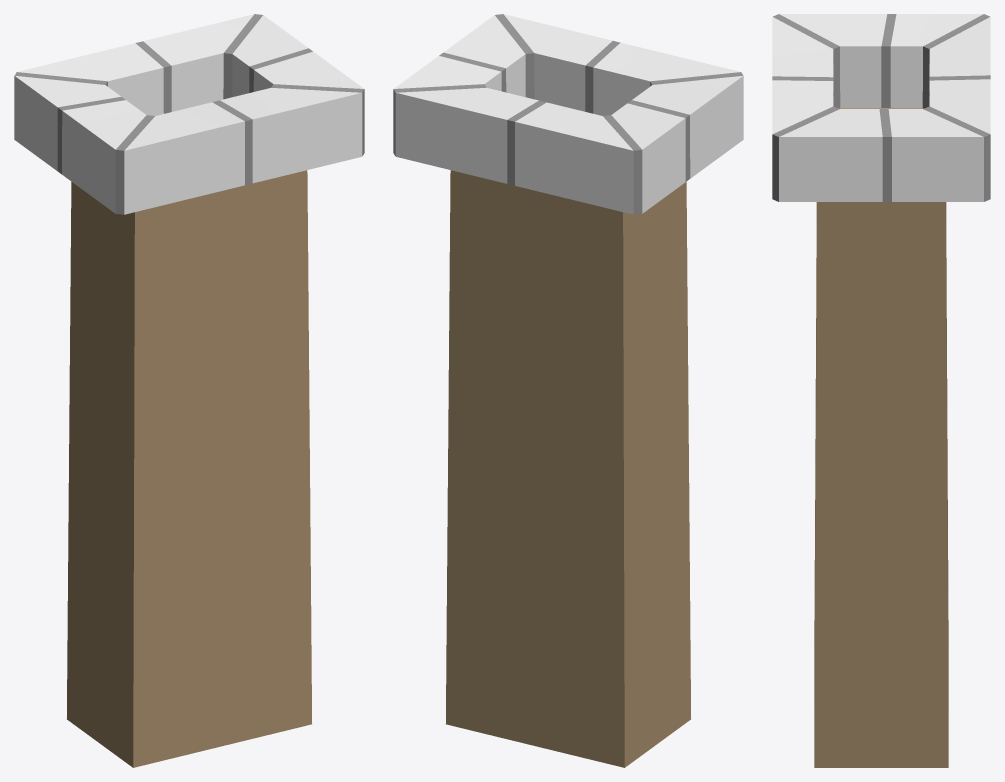
File: PT_Stove_01_Chimney_02.fbx
3 renders of one model, left to right at view 1: azimuth 30°, elevation 25°; view 2: azimuth 150°, elevation 25°; view 3: azimuth 270°, elevation 25°, orthographic.
Parts seen in each view (by area): view 1: PT_Stove_01_Chimney_02; view 2: PT_Stove_01_Chimney_02; view 3: PT_Stove_01_Chimney_02.
Part boxes in pixels (bbox=[...]): PT_Stove_01_Chimney_02: bbox=[14, 14, 364, 767]; PT_Stove_01_Chimney_02: bbox=[393, 14, 743, 767]; PT_Stove_01_Chimney_02: bbox=[772, 14, 990, 767].
Bounding box in the file's own units: 80.39 × 197 × 60.14.
1 material, 1 textured.
